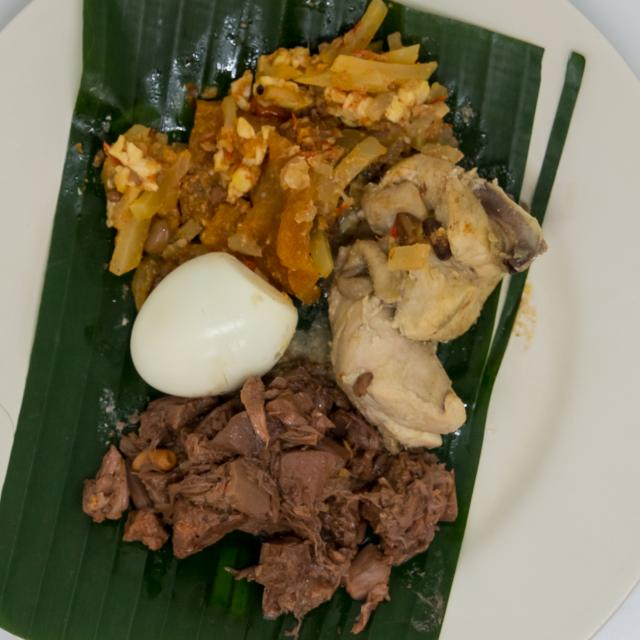Gudeg-Jogja: (66, 15, 557, 610)
